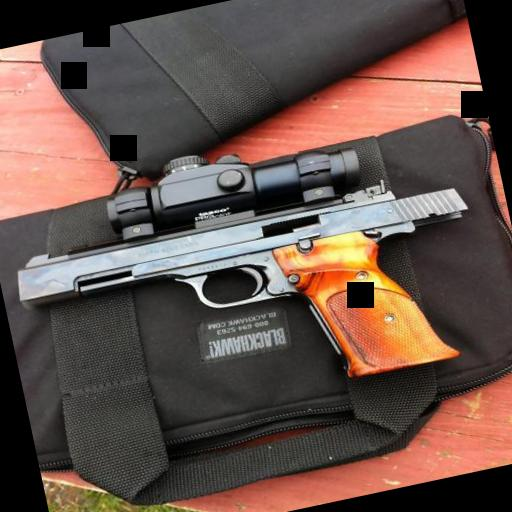Handgun: (0, 91, 498, 452)
